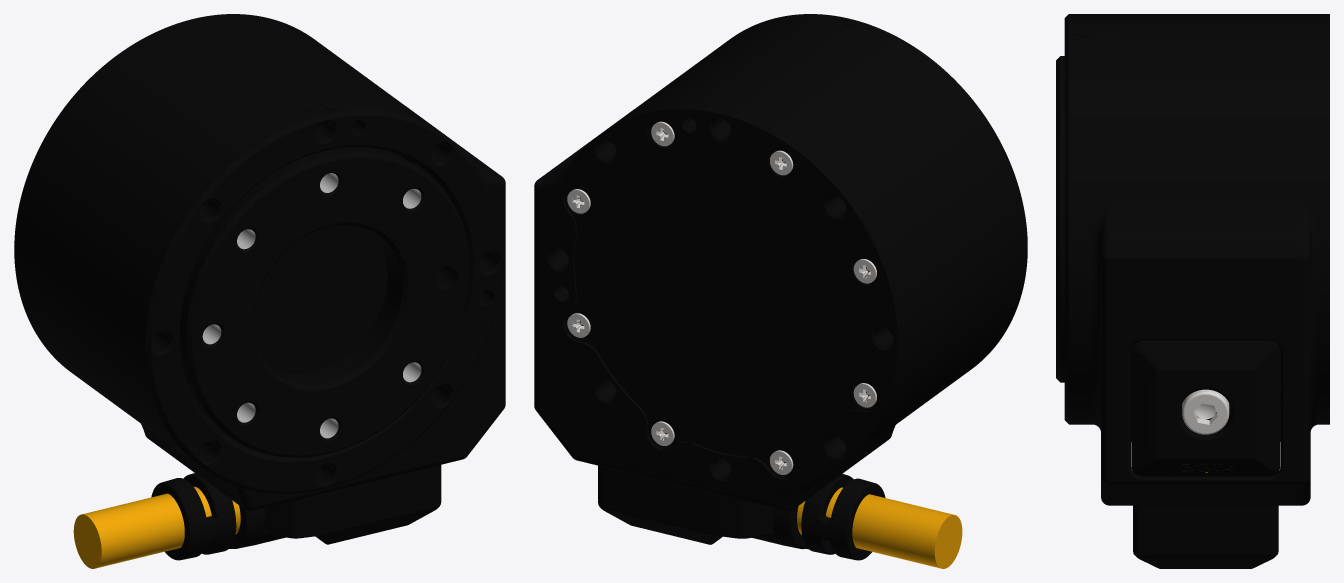
File: Rokubi_Gen_A.dae
3 renders of one model, left to right at view 1: azimuth 30°, elevation 25°; view 2: azimuth 150°, elevation 25°; view 3: azimuth 270°, elevation 25°, orthographic.
Visible parts, largest first — view 1: MED-A005-MountingFrame.001, MED-A005-MountingFrame.003, MED-A005-MountingFrame.004, MED-A005-MountingFrame.002; view 2: MED-A005-MountingFrame.001, MED-A005-MountingFrame.003, MED-A005-MountingFrame.004, MED-A005-MountingFrame.006; view 3: MED-A005-MountingFrame.001, MED-A005-MountingFrame.003, MED-A005-MountingFrame.005.
Boxes of the visible parts, box(x1,y1,x2,y2) form: MED-A005-MountingFrame.001: box(14, 14, 505, 511); MED-A005-MountingFrame.003: box(151, 465, 441, 560); MED-A005-MountingFrame.004: box(73, 486, 240, 568); MED-A005-MountingFrame.002: box(202, 173, 421, 438); MED-A005-MountingFrame.001: box(534, 14, 1027, 511); MED-A005-MountingFrame.003: box(598, 430, 885, 560); MED-A005-MountingFrame.004: box(797, 487, 962, 568); MED-A005-MountingFrame.006: box(567, 121, 876, 474); MED-A005-MountingFrame.001: box(1056, 14, 1329, 505); MED-A005-MountingFrame.003: box(1133, 464, 1278, 568); MED-A005-MountingFrame.005: box(1182, 389, 1229, 434).
Bounding box in the file's own units: 0.0522 × 0.032 × 0.061.
